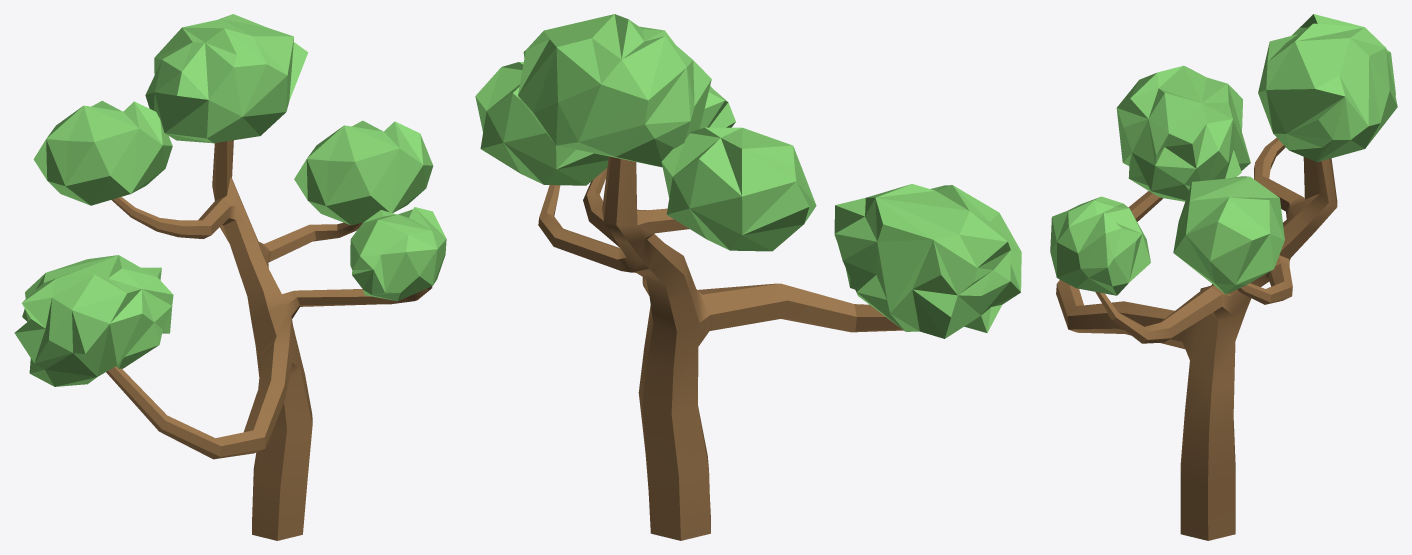
File: tree4.fbx
The picture shows the model from 3 angles, left to right: view 1: azimuth 30°, elevation 25°; view 2: azimuth 150°, elevation 25°; view 3: azimuth 270°, elevation 25°; orthographic projection. The views are drawn at different scales.
Parts seen in each view (by area): view 1: stem_1:pCylinder2, grass_1:pCube3, grass_1:pCube4, pCube1, pCube2, pCube3; view 2: stem_1:pCylinder2, grass_1:pCube4, grass_1:pCube3, pCube1, pCube2, pCube3; view 3: stem_1:pCylinder2, grass_1:pCube3, grass_1:pCube4, pCube2, pCube3.
Part boxes in pixels (x1,y1,x2,y2): stem_1:pCylinder2: [106, 140, 432, 540]; grass_1:pCube3: [145, 14, 308, 143]; grass_1:pCube4: [14, 255, 173, 386]; pCube1: [33, 100, 172, 205]; pCube2: [294, 120, 433, 225]; pCube3: [350, 207, 446, 301]; stem_1:pCylinder2: [538, 156, 903, 540]; grass_1:pCube4: [834, 184, 1021, 338]; grass_1:pCube3: [518, 14, 711, 167]; pCube1: [661, 127, 816, 251]; pCube2: [475, 62, 608, 185]; pCube3: [700, 86, 735, 128]; stem_1:pCylinder2: [1056, 137, 1337, 540]; grass_1:pCube3: [1258, 14, 1397, 162]; grass_1:pCube4: [1116, 65, 1250, 201]; pCube2: [1173, 176, 1284, 294]; pCube3: [1050, 196, 1150, 295].
Bounding box in the file's own units: 16.79 × 17.47 × 10.97.
